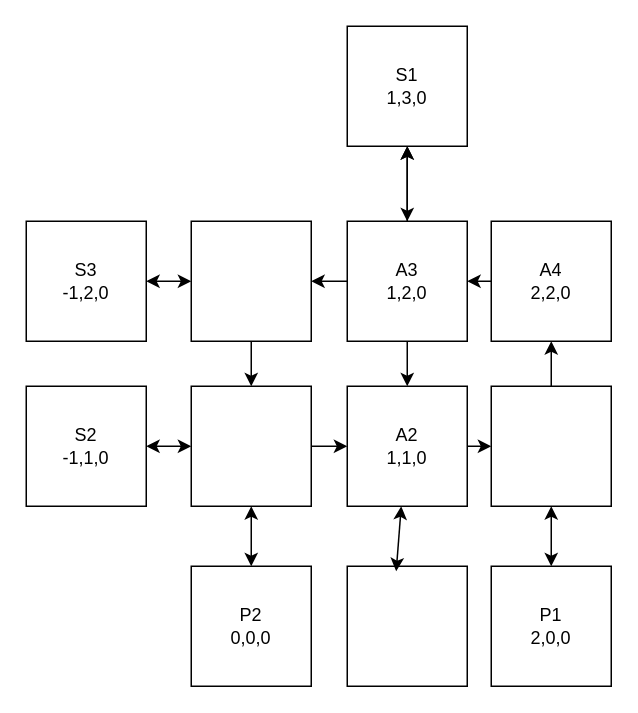
This 638x713 diagram has some shape labels left out. Each missing label, with the centre of its shape:
"A1 2,1,0" goes at pixel 550 445.
"A5 0,2,0" goes at pixel 250 280.
"A6 0,1,0" goes at pixel 250 445.
"C1 1,0,0" goes at pixel 406 625.
